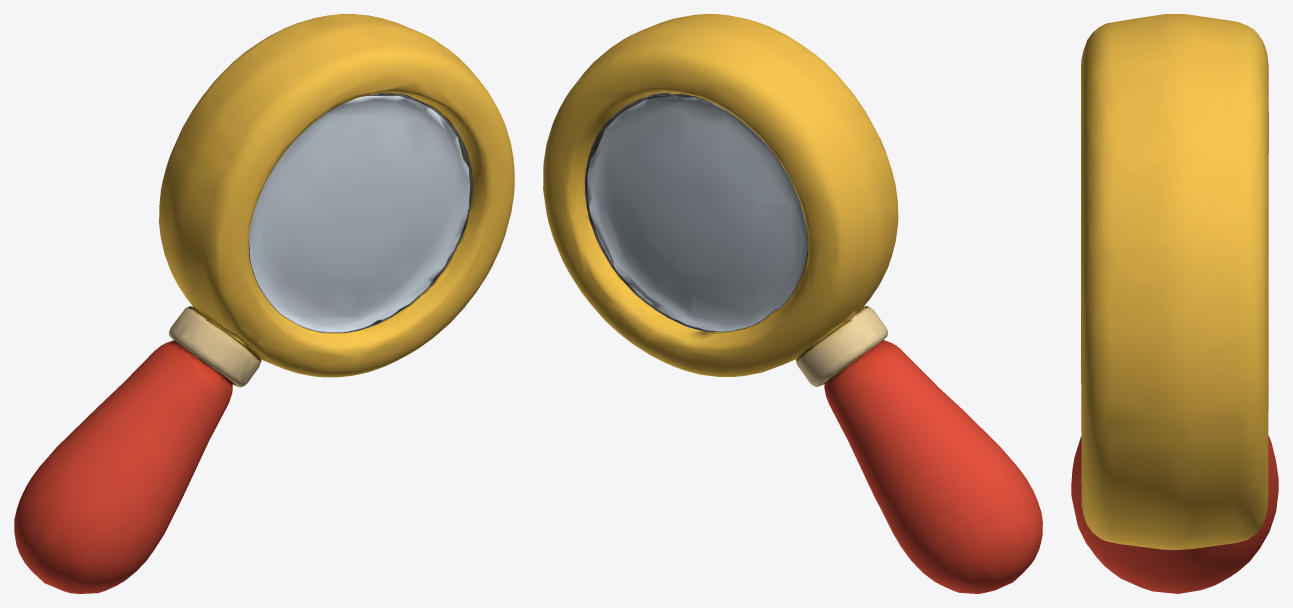
Rendered from glass.glb.
3 renders of one model, left to right at view 1: azimuth 30°, elevation 25°; view 2: azimuth 150°, elevation 25°; view 3: azimuth 270°, elevation 25°, orthographic. The views are drawn at different scales.
Visible parts, largest first — view 1: tripo_node_dafa222c-b7b5-4a16-96bd-1a40da90d1fa; view 2: tripo_node_dafa222c-b7b5-4a16-96bd-1a40da90d1fa; view 3: tripo_node_dafa222c-b7b5-4a16-96bd-1a40da90d1fa.
Boxes of the visible parts, box(x1,y1,x2,y2) form: tripo_node_dafa222c-b7b5-4a16-96bd-1a40da90d1fa: box(14, 14, 514, 593); tripo_node_dafa222c-b7b5-4a16-96bd-1a40da90d1fa: box(543, 14, 1042, 593); tripo_node_dafa222c-b7b5-4a16-96bd-1a40da90d1fa: box(1071, 14, 1278, 593).
Size of the model in its own units: 0.9802 by 0.9794 by 0.2532.
1 material, 1 textured.
